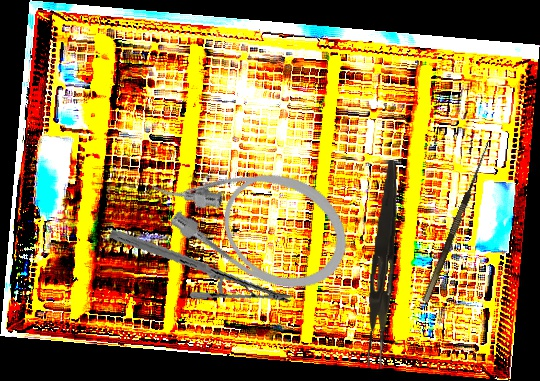Cannula: (135, 122, 367, 311)
Dressing Forceps: (365, 159, 401, 370)
Hook Surgical: (413, 138, 493, 303)
Needle Holder: (108, 204, 294, 329)
